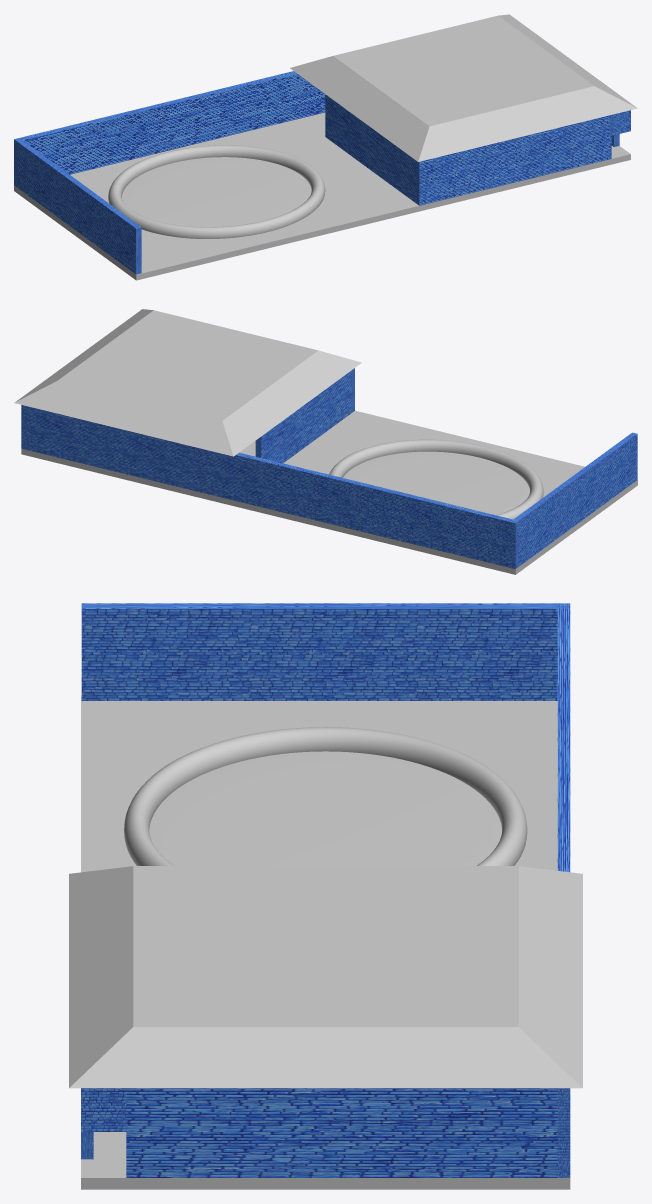
File: PenguinRoomFULLTHICK.fbx
3 renders of one model, top to bottom at view 1: azimuth 30°, elevation 25°; view 2: azimuth 150°, elevation 25°; view 3: azimuth 270°, elevation 25°, orthographic. The views are drawn at different scales.
Visible parts, largest first — view 1: Cube, Cube.007, Cube.002, Sphere.001, Cube.003, Cube.006, Torus.001, Cube.001, EXTRA; view 2: Cube, Cube.002, Cube.007, Sphere.001, Cube.006, Cube.001, Torus.001; view 3: Cube, Cube.006, Cube.007, Cube.005, Sphere.001, Torus.001, Cube.002, EXTRA.
Part boxes in pixels (x1,y1,x2,y2): Cube: [290, 14, 637, 161]; Cube.007: [14, 112, 630, 280]; Cube.002: [14, 71, 325, 187]; Sphere.001: [122, 157, 311, 227]; Cube.003: [416, 115, 611, 205]; Cube.006: [14, 139, 141, 274]; Torus.001: [108, 145, 325, 238]; Cube.001: [325, 94, 416, 202]; EXTRA: [609, 110, 630, 136]; Cube: [14, 309, 361, 456]; Cube.002: [21, 405, 518, 568]; Cube.007: [21, 410, 637, 574]; Sphere.001: [343, 451, 529, 515]; Cube.006: [510, 432, 637, 568]; Cube.001: [255, 370, 351, 463]; Torus.001: [329, 439, 543, 519]; Cube: [69, 866, 582, 1088]; Cube.006: [81, 603, 570, 700]; Cube.007: [81, 695, 570, 1189]; Cube.005: [126, 1088, 570, 1177]; Sphere.001: [149, 751, 501, 865]; Torus.001: [124, 727, 527, 865]; Cube.002: [557, 603, 570, 1177]; EXTRA: [81, 1088, 126, 1131].
Size of the model in its own units: 90.75 by 12.15 by 40.5.
